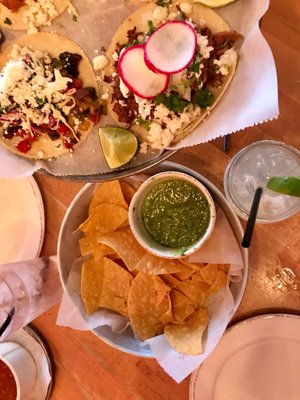salad: (224, 139, 300, 249)
sushi: (187, 312, 300, 400), (127, 172, 216, 259)
